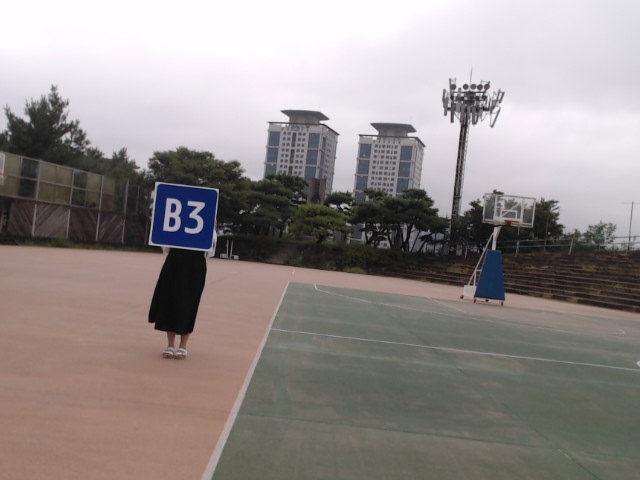delivery_b3: (150, 182, 219, 251)
